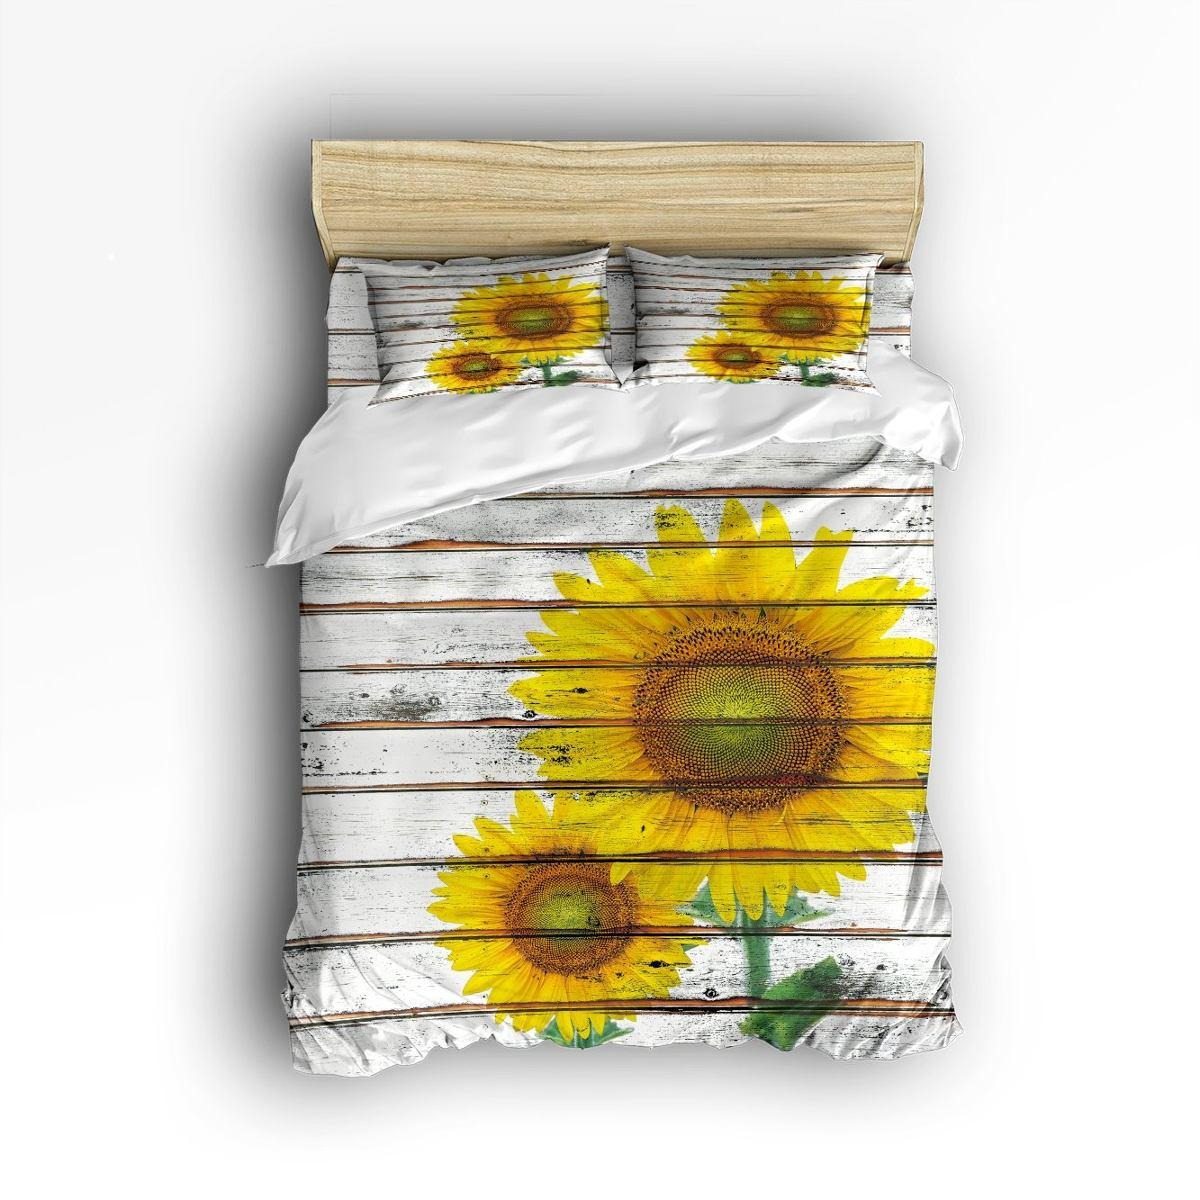bed: (310, 110, 980, 1055)
